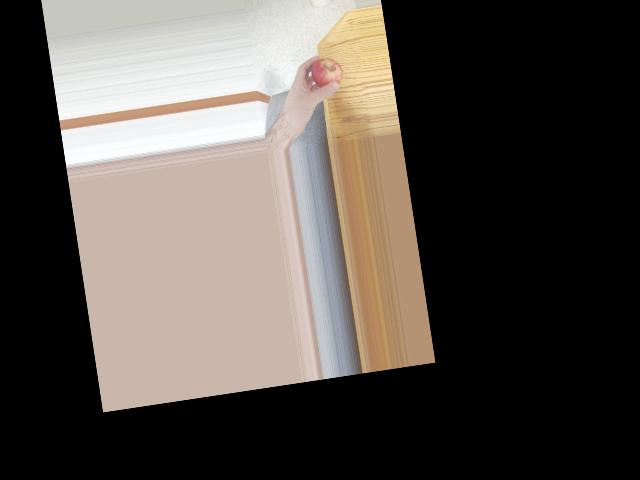apple: (309, 54, 346, 93)
